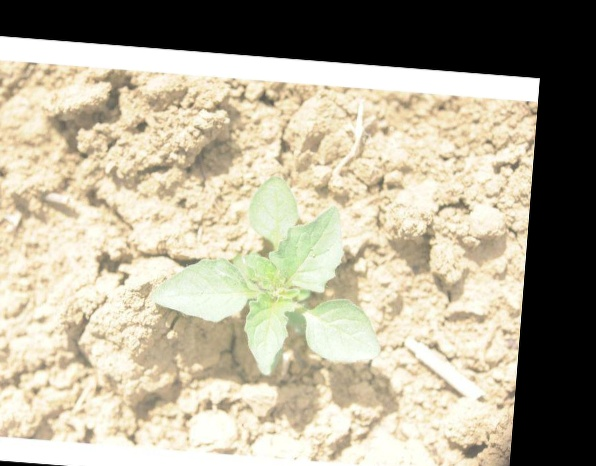nightshade: (157, 176, 385, 374)
